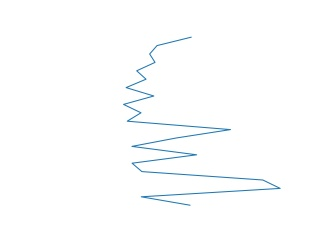crevasseRiverBedLagDeposit: (118, 33, 284, 209)
